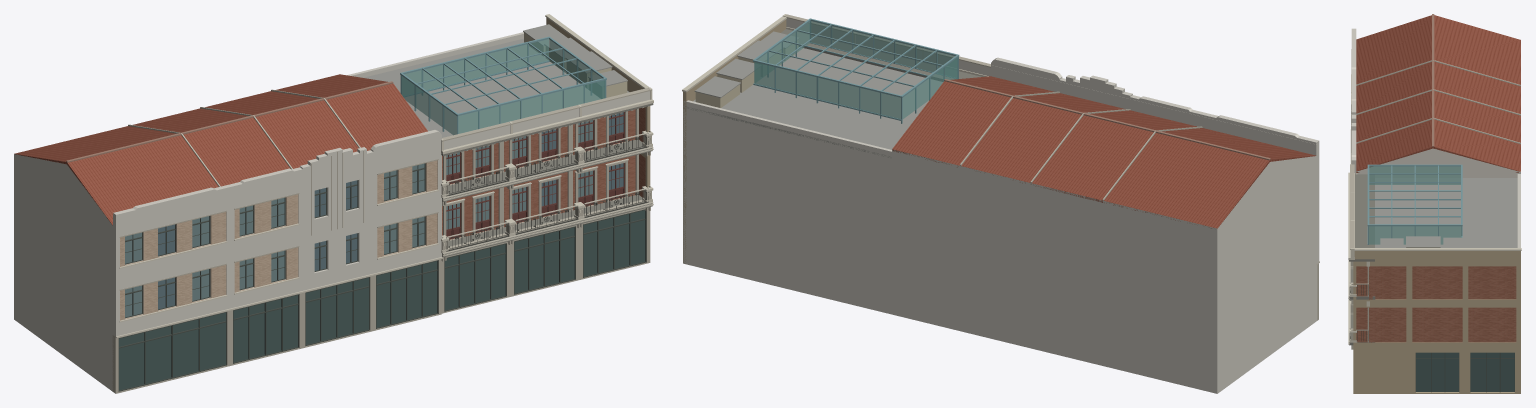
File: hongkou-gongyi-fang-1297-1311-sichuan-road-raw.glb
3 views of the same model, side by side, from view 1: azimuth 30°, elevation 25°; view 2: azimuth 150°, elevation 25°; view 3: azimuth 270°, elevation 25° (orthographic). The views are drawn at different scales.
Visible parts, largest first — view 1: 公益坊一号楼南北两段商住楼街面; view 2: 公益坊一号楼南北两段商住楼街面; view 3: 公益坊一号楼南北两段商住楼街面.
Boxes of the visible parts, x1,y1,x2,y2 form: 公益坊一号楼南北两段商住楼街面: (14, 14, 653, 393); 公益坊一号楼南北两段商住楼街面: (682, 14, 1319, 393); 公益坊一号楼南北两段商住楼街面: (1348, 14, 1521, 393).
Bounding box in the file's own units: 40.13 × 14.1 × 13.54.
Materials: 19 (3 with a texture image).
